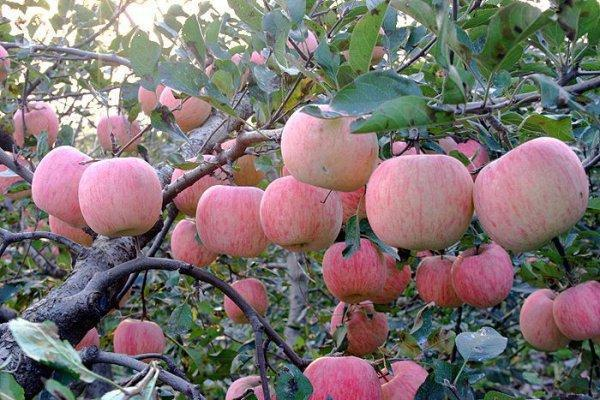apple: (471, 136, 588, 256), (362, 154, 474, 254), (279, 100, 380, 193), (75, 152, 162, 239), (255, 174, 345, 255), (196, 183, 269, 257), (31, 144, 88, 230), (320, 238, 387, 305), (444, 242, 511, 308), (302, 355, 381, 398), (521, 290, 571, 350), (552, 281, 600, 343), (153, 84, 213, 131), (341, 300, 388, 356), (169, 217, 218, 269), (113, 318, 165, 357), (223, 278, 270, 320), (136, 83, 157, 113)
